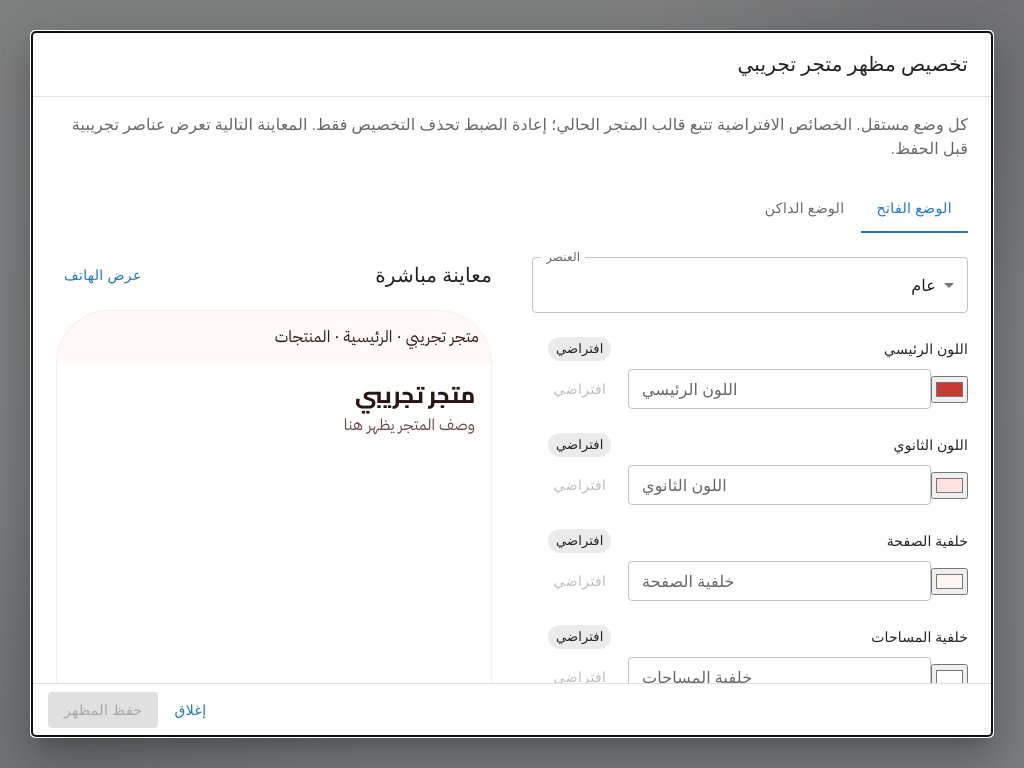
Test: store appearance editor › blocks invalid values and offers a retry after API failure
Type "bad" into the field labelled "اللون الرئيسي" at (780, 389), box x1=628 y1=369 x2=931 y2=409
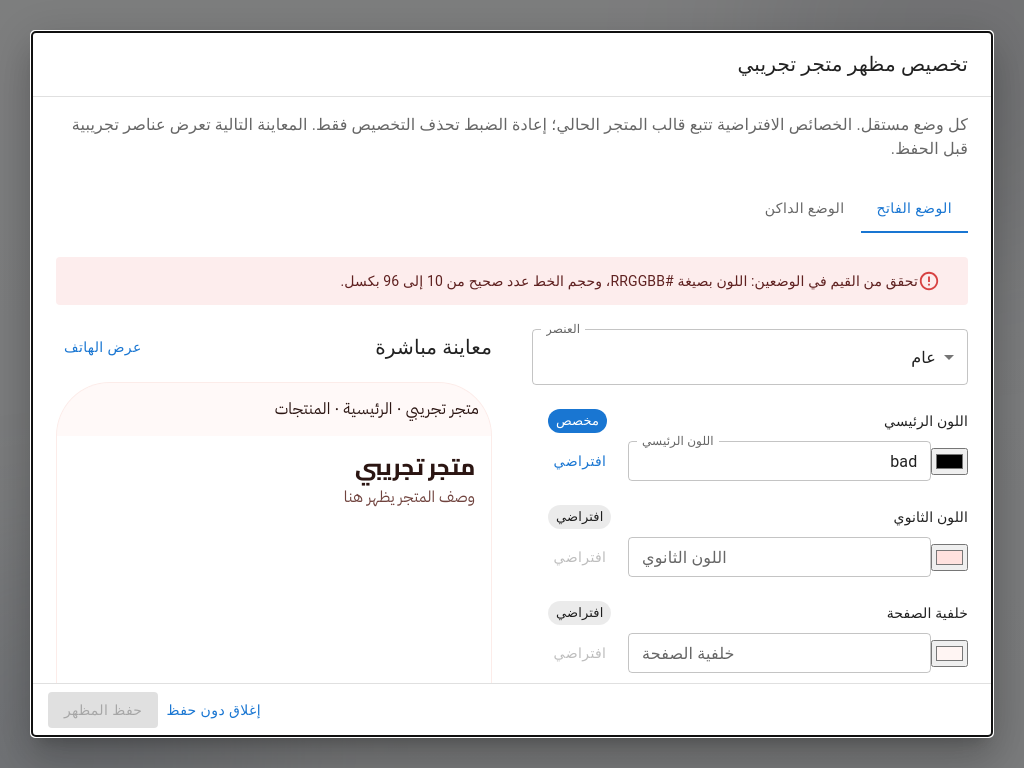
Check: the button "حفظ المظهر" is disabled, box x1=48 y1=692 x2=158 y2=728
Replace the text in the field labelled "اللون الرئيسي" with "#ff0000" at (780, 461), box x1=628 y1=441 x2=931 y2=481
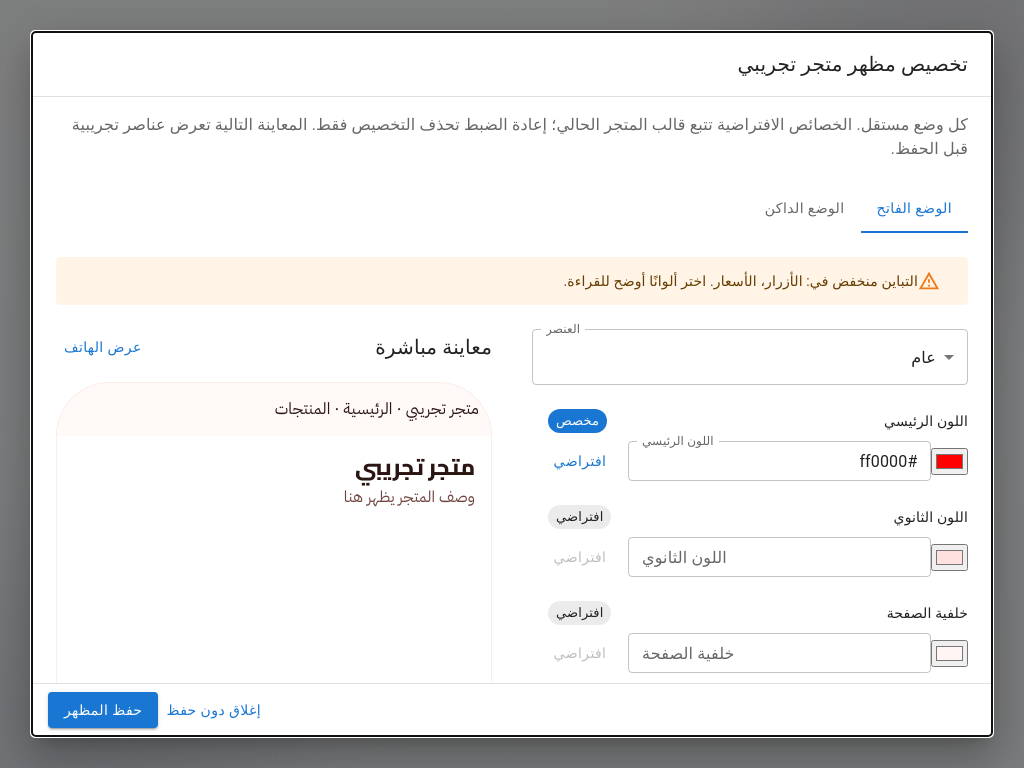
Click the button "حفظ المظهر" at (103, 710), box x1=48 y1=692 x2=158 y2=728
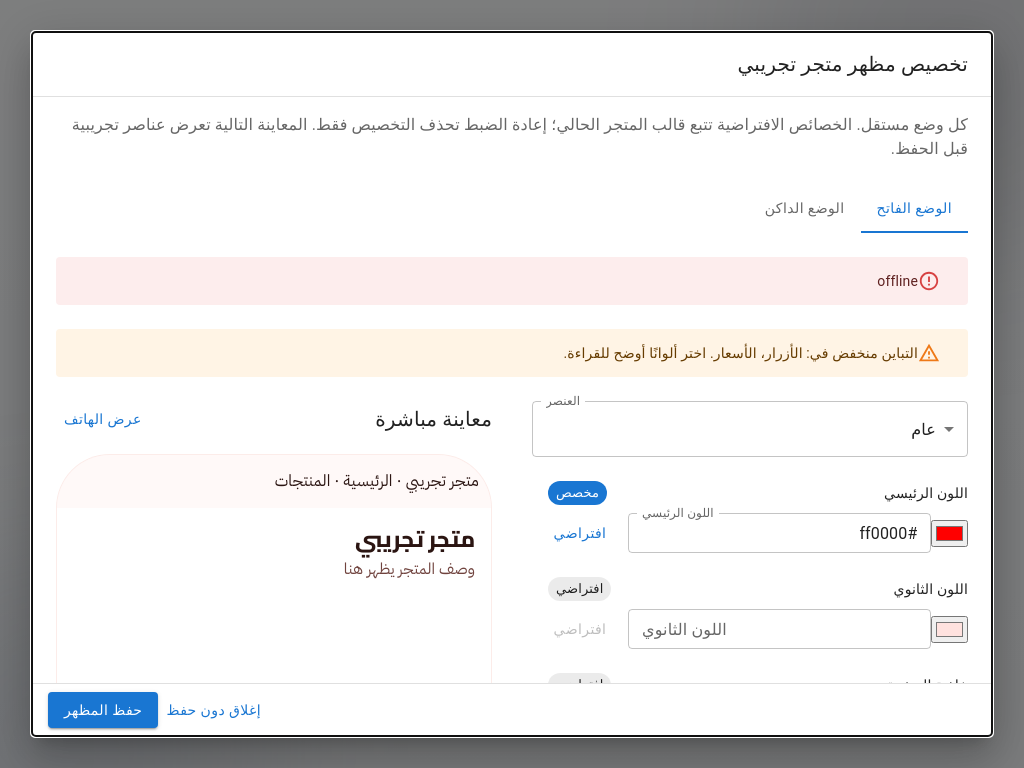
Check: the button "حفظ المظهر" is enabled, box x1=48 y1=692 x2=158 y2=728
Check: the text "offline" is shown, box x1=877 y1=273 x2=918 y2=289
